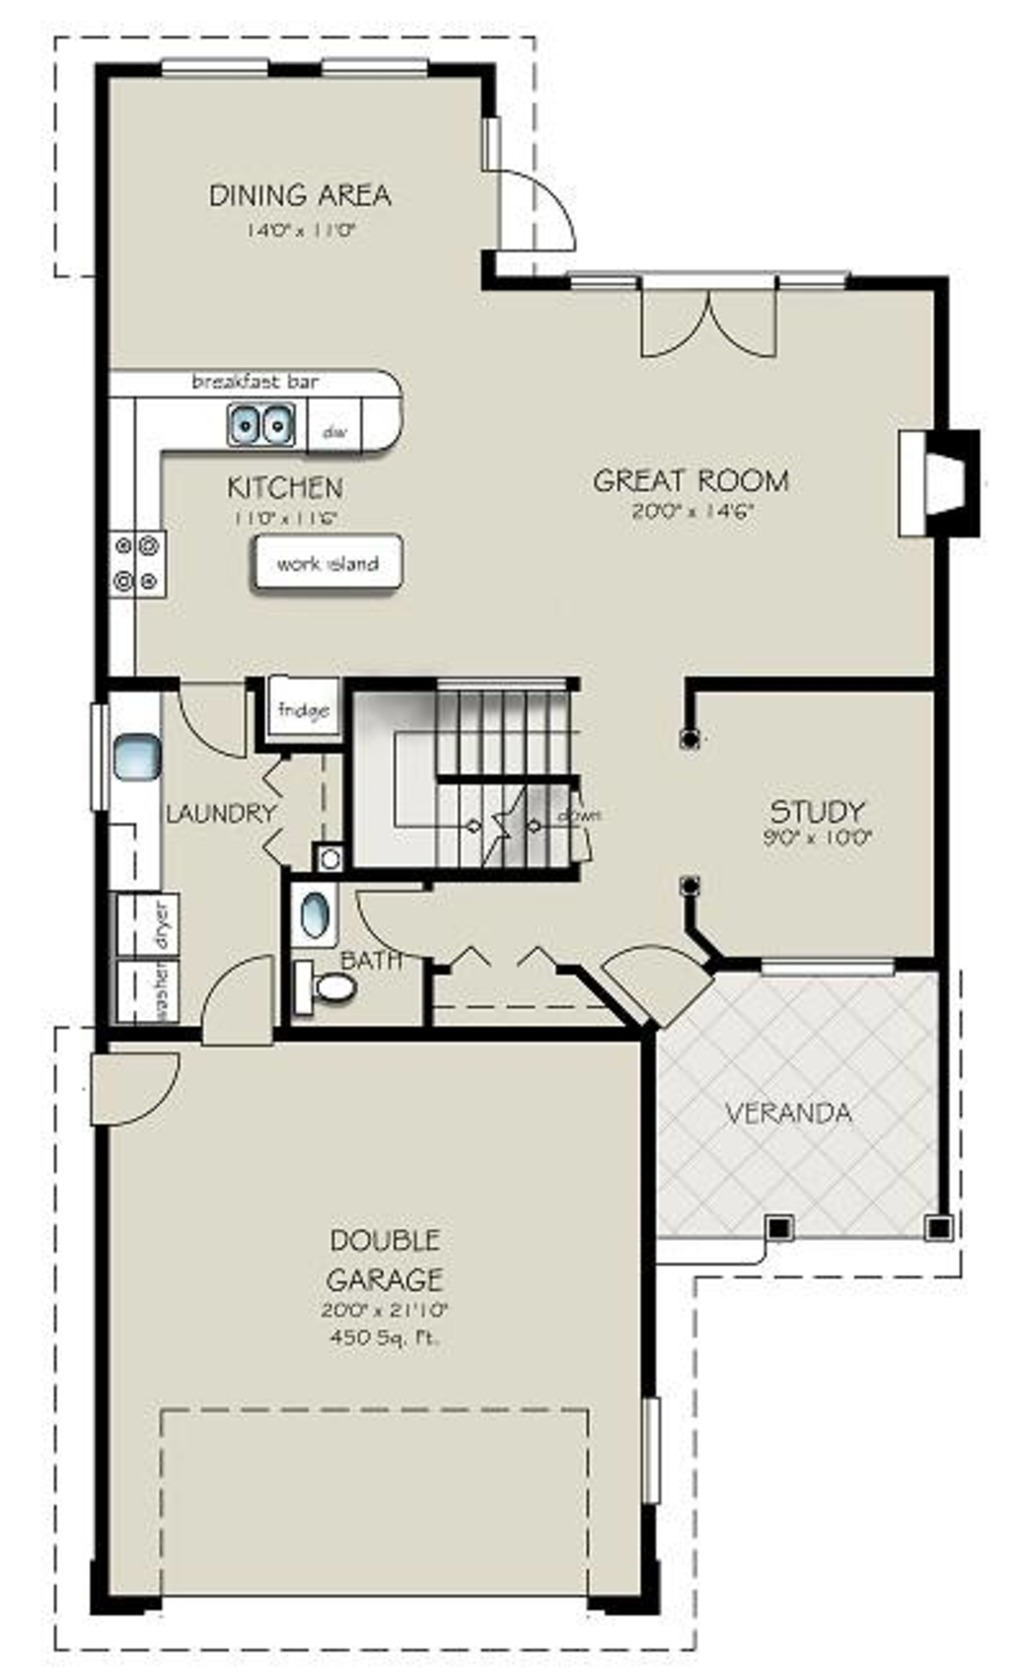door: (625, 277, 802, 377), (589, 938, 723, 1055), (194, 943, 289, 1064), (489, 164, 594, 262), (79, 1035, 179, 1136), (356, 877, 450, 969), (171, 677, 258, 772)
kitchen_bar: (189, 500, 471, 613)
large_sink: (287, 959, 370, 1028)
small_sink: (282, 883, 348, 966)
stairs: (325, 672, 611, 892)
twin_sink: (207, 377, 317, 465)
window: (323, 38, 435, 96), (638, 1377, 676, 1508), (157, 49, 294, 84), (756, 954, 897, 986)
